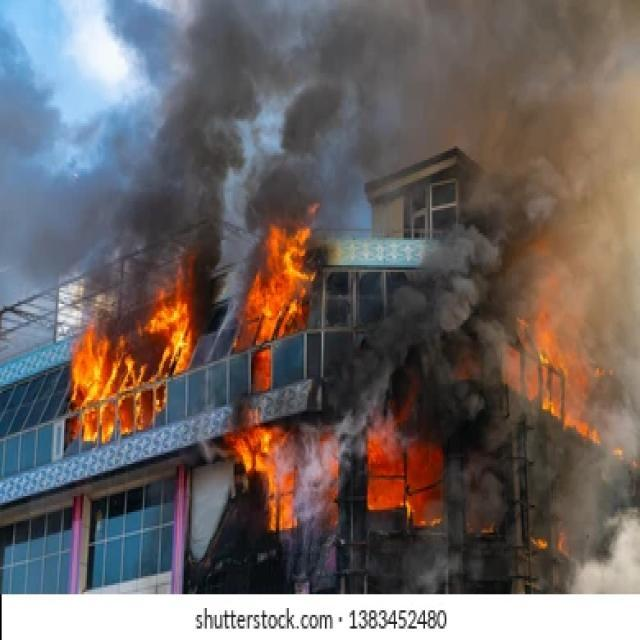Fire: (65, 279, 194, 448), (245, 220, 328, 346), (228, 408, 300, 532), (362, 413, 404, 517)
Smoke: (337, 0, 640, 438), (50, 0, 397, 298)
